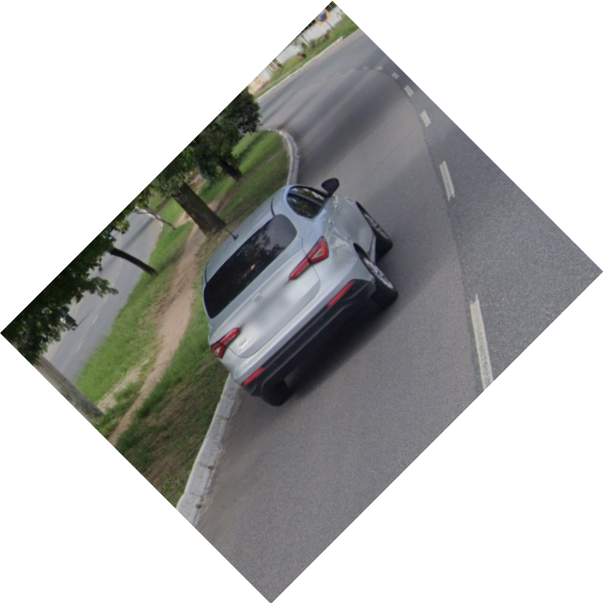car: (198, 175, 404, 415)
